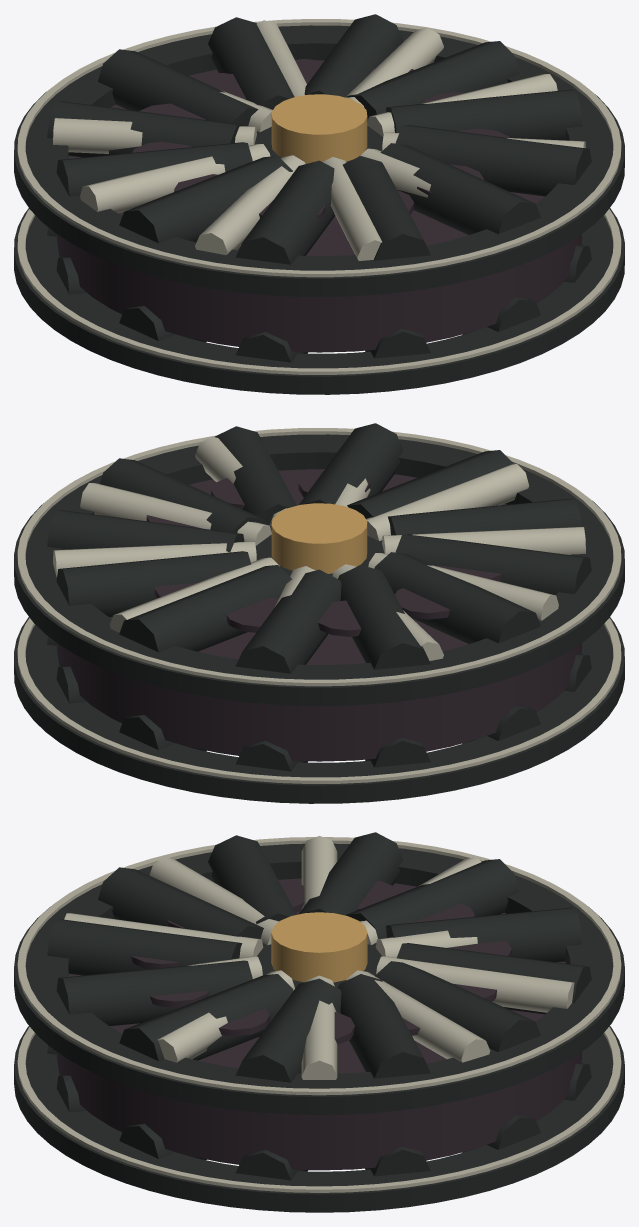
The model's file is Foundry.glb.
3 views of the same model, one above another, from view 1: azimuth 30°, elevation 25°; view 2: azimuth 150°, elevation 25°; view 3: azimuth 270°, elevation 25° (orthographic).
Parts seen in each view (by area): view 1: Pressed web (×18), Stamped outer rim (×2), Wound silk, Raised spoke (×10), Pressed lip (×2), Spindle, Spool window, Spool hub; view 2: Pressed web (×18), Stamped outer rim (×2), Wound silk, Raised spoke (×9), Pressed lip (×2), Spindle, Spool window (×4), Spool hub; view 3: Pressed web (×18), Stamped outer rim (×2), Wound silk, Raised spoke (×9), Pressed lip (×2), Spindle, Spool window (×7), Spool hub.
Boxes of the visible parts, x1,y1,x2,y2 form: Pressed web (×18): (47, 14, 591, 362); Stamped outer rim (×2): (14, 25, 624, 394); Wound silk: (57, 60, 581, 352); Raised spoke (×10): (53, 20, 585, 260); Pressed lip (×2): (17, 19, 621, 374); Spindle: (271, 94, 367, 163); Spool window: (195, 73, 245, 99); Spool hub: (254, 118, 383, 162); Pressed web (×18): (47, 423, 591, 771); Stamped outer rim (×2): (14, 434, 624, 803); Wound silk: (57, 469, 581, 761); Raised spoke (×9): (53, 436, 585, 660); Pressed lip (×2): (17, 428, 621, 783); Spindle: (271, 503, 367, 573); Spool window (×4): (211, 478, 449, 636); Spool hub: (255, 524, 384, 576); Pressed web (×18): (47, 832, 591, 1180); Stamped outer rim (×2): (14, 843, 624, 1212); Wound silk: (57, 878, 581, 1170); Raised spoke (×9): (64, 836, 574, 1079); Pressed lip (×2): (17, 837, 621, 1192); Spindle: (271, 912, 367, 982); Spool window (×7): (150, 879, 511, 1044); Spool hub: (257, 942, 381, 988).
Bounding box in the file's own units: 0.85 × 0.253 × 0.85.
